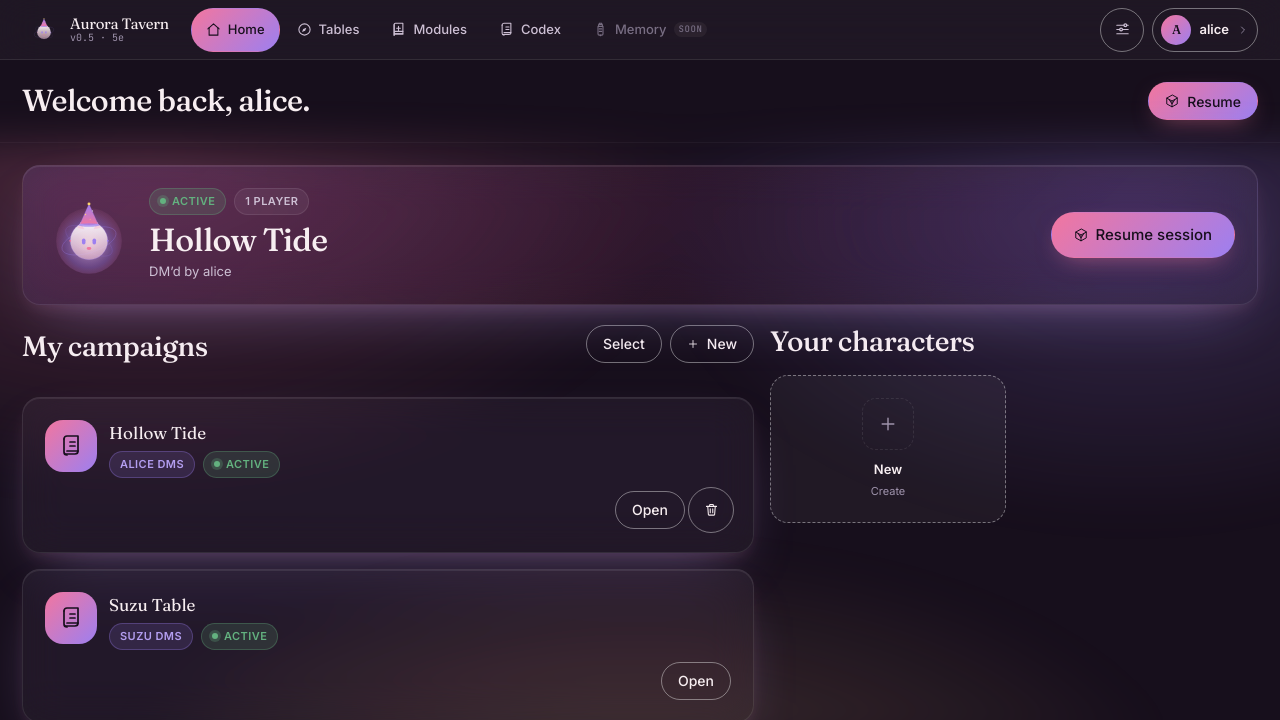
Test case: a non-DM row in select mode gets no corner checkbox (DM-only select, unchanged from the old row)
The image size is (1280, 720).
Click the button "Select".
click(624, 344)  # box [586,325,662,363]
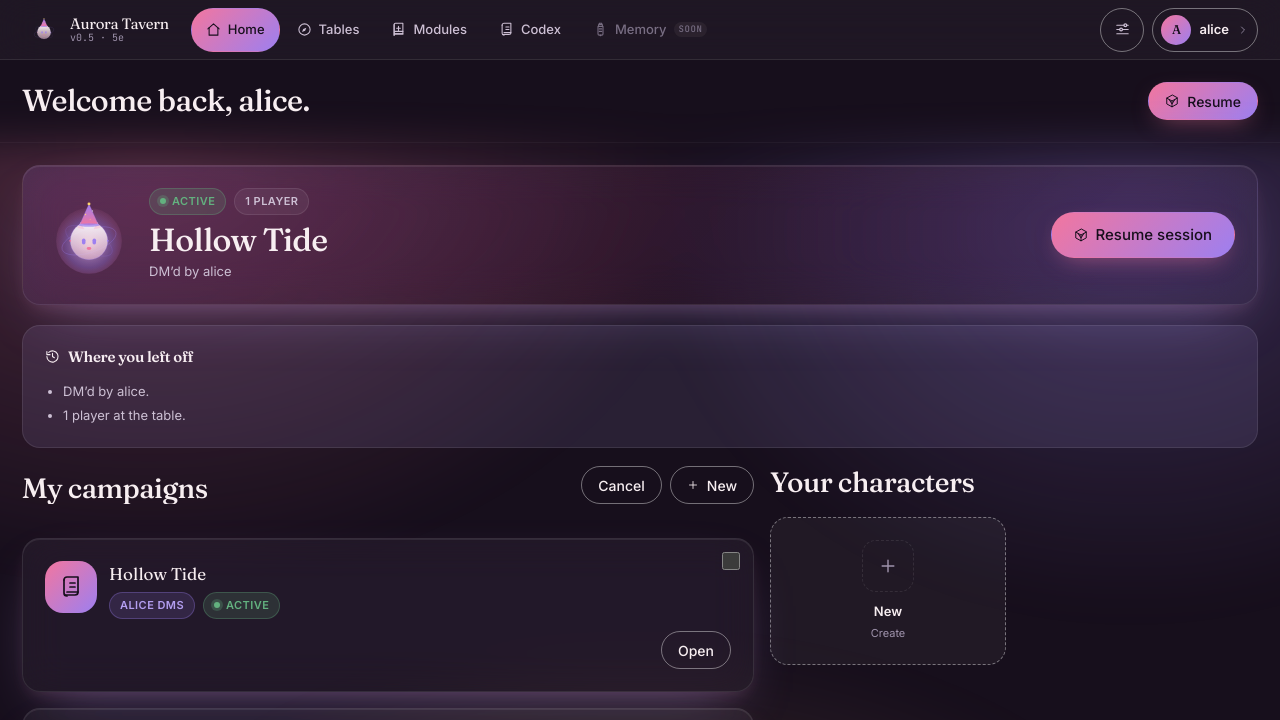
Result: the checkbox named "select campaign hollow tide" is shown at [722,552,740,570]
